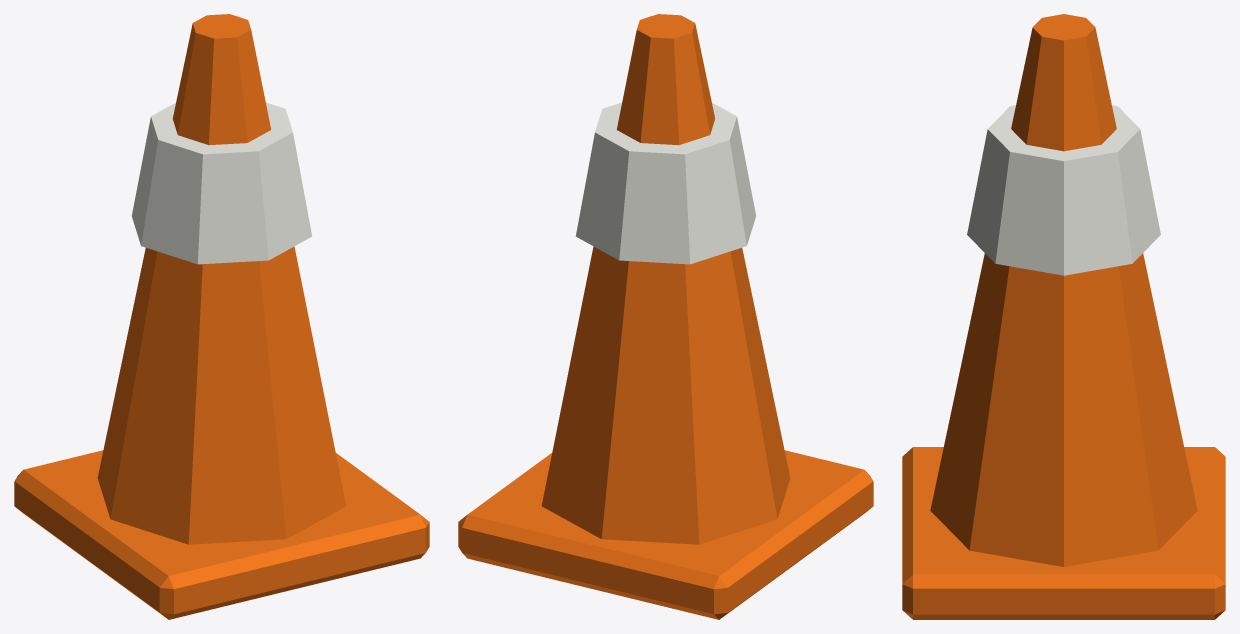
File: TrafficCone.glb
The picture shows the model from 3 angles, left to right: view 1: azimuth 30°, elevation 25°; view 2: azimuth 150°, elevation 25°; view 3: azimuth 270°, elevation 25°; orthographic projection. The views are drawn at different scales.
Visible parts, largest first — view 1: Body; view 2: Body; view 3: Body.
Part boxes in pixels (x1,y1,x2,y2): Body: (14,14,429,619); Body: (458,14,873,619); Body: (902,14,1225,619).
Bounding box in the file's own units: 0.36 × 0.65 × 0.36.
